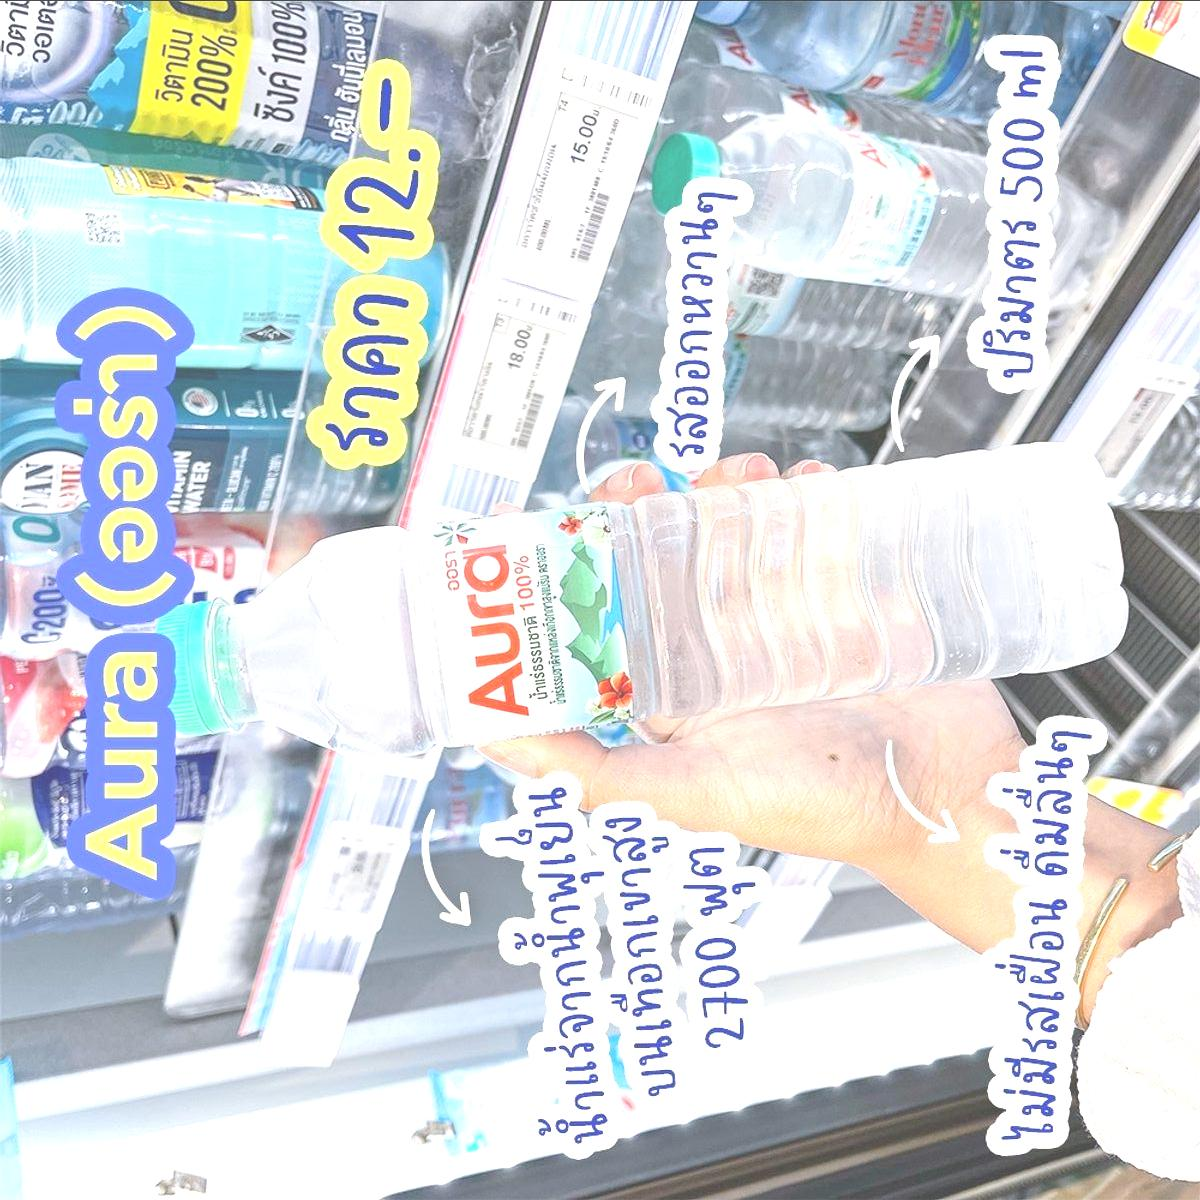bottle: (123, 423, 1135, 774)
